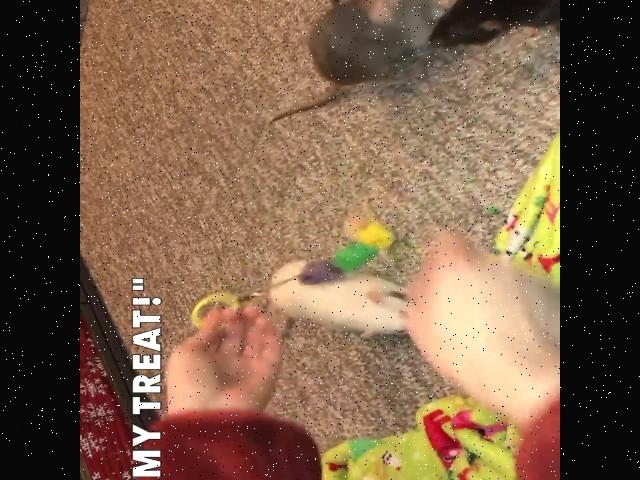Tikus: (297, 0, 447, 91), (290, 255, 408, 336)
